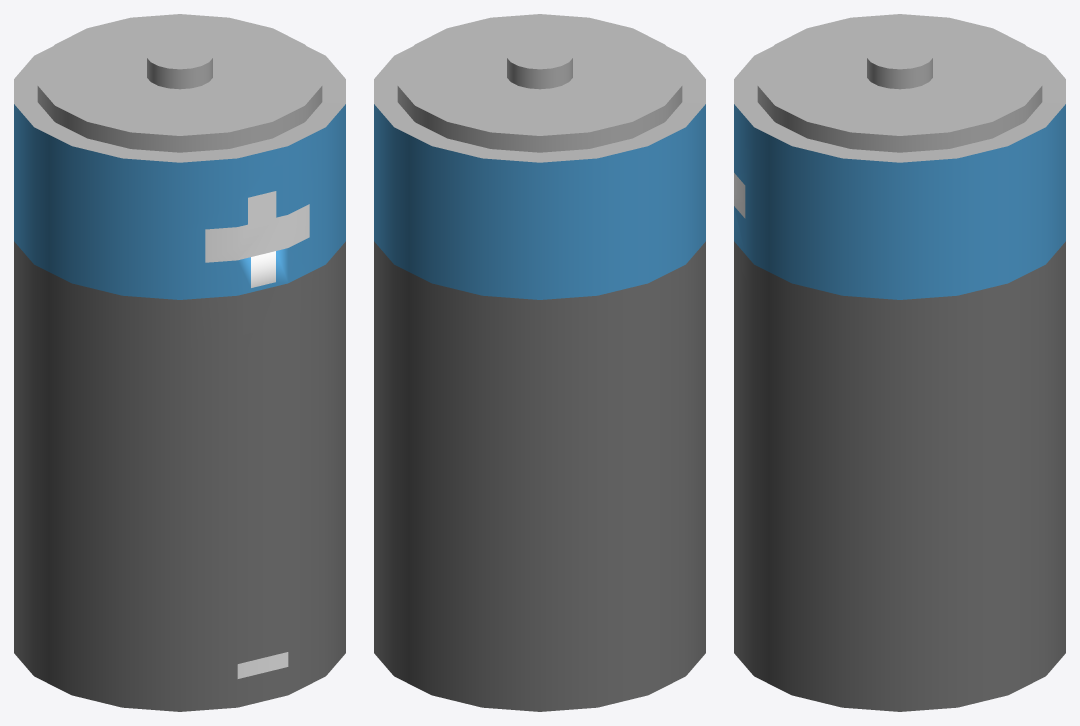
The model's file is Baterias.fbx.
The picture shows the model from 3 angles, left to right: view 1: azimuth 30°, elevation 25°; view 2: azimuth 150°, elevation 25°; view 3: azimuth 270°, elevation 25°; orthographic projection.
Visible parts, largest first — view 1: Cylinder001; view 2: Cylinder001; view 3: Cylinder001.
Part boxes in pixels (bbox=[...]): Cylinder001: bbox=[14, 14, 345, 711]; Cylinder001: bbox=[374, 14, 705, 711]; Cylinder001: bbox=[734, 14, 1065, 711].
Size of the model in its own units: 3.06 by 5.86 by 3.01.
